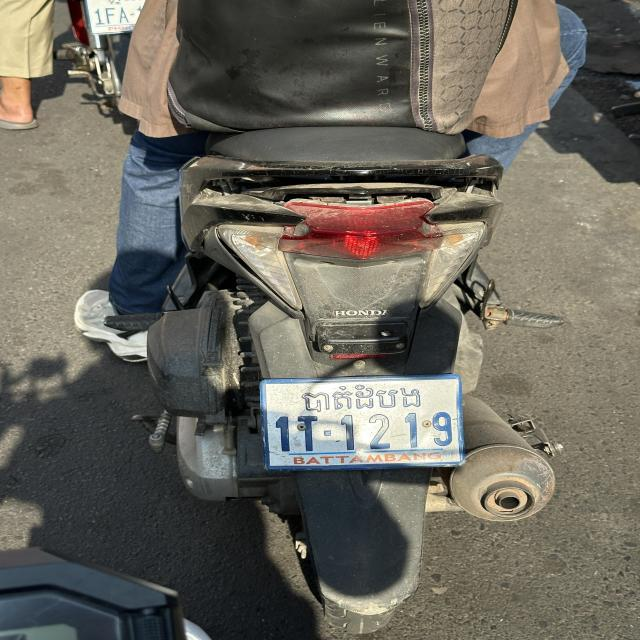Battambang: (298, 384, 424, 414)
